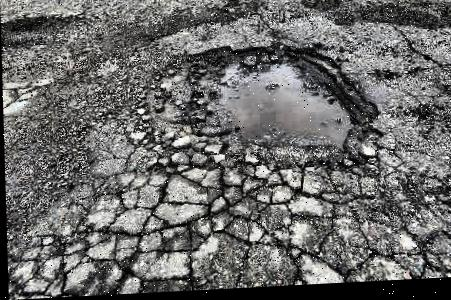pothole: (132, 38, 383, 188)
